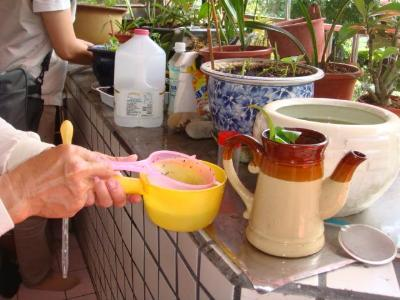bottle: (247, 123, 330, 256), (111, 26, 167, 129)
bowl: (256, 98, 400, 217), (142, 154, 227, 234)
